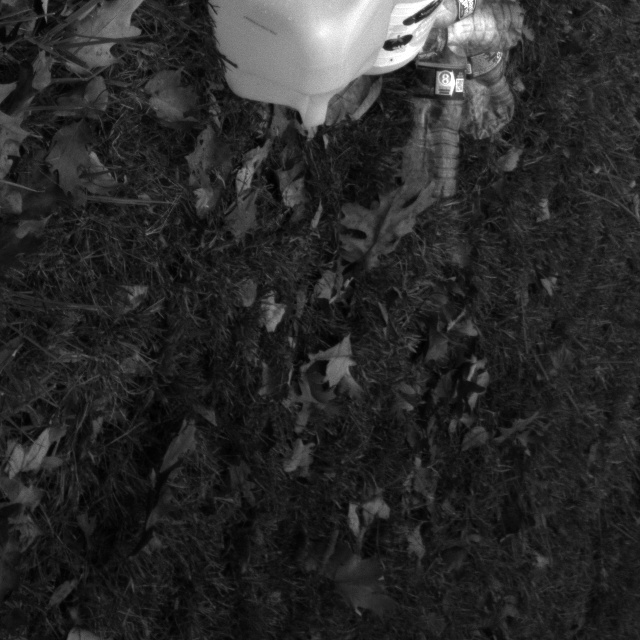bottle: (402, 22, 470, 201)
can: (210, 0, 393, 129), (331, 0, 477, 76)
